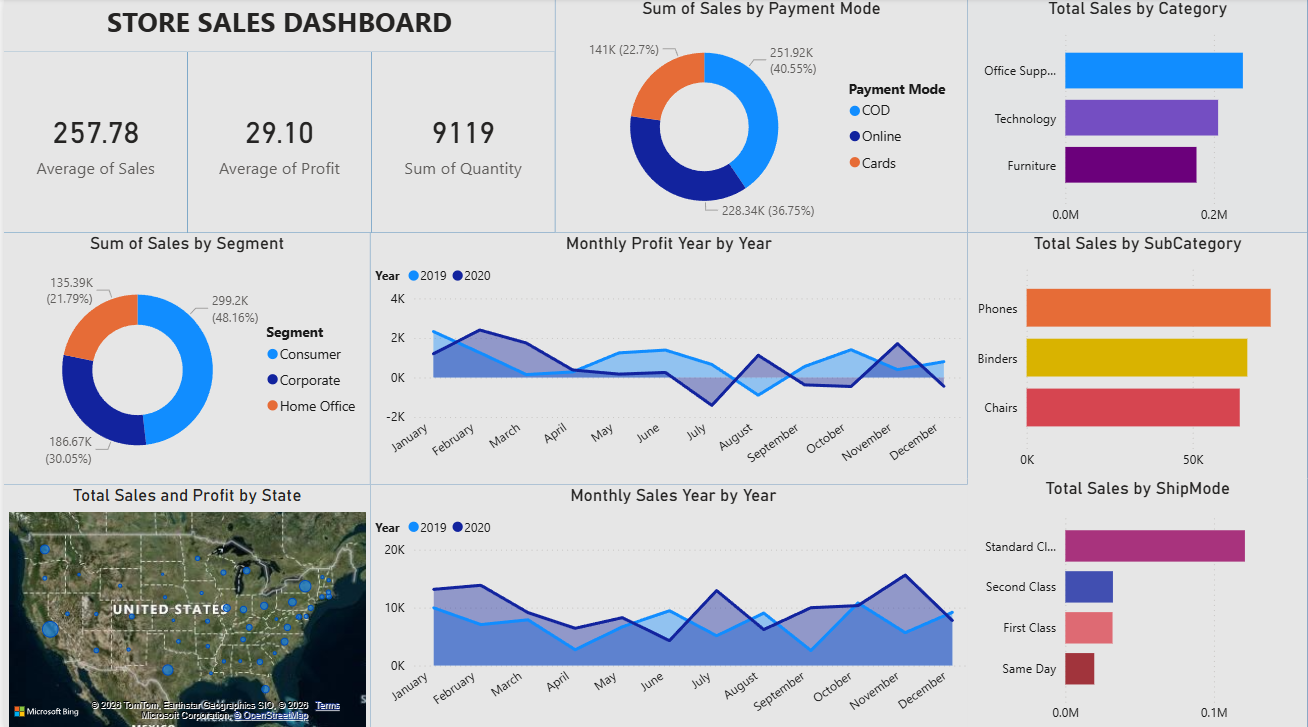

What the dashboard file says about the page in this screenshot:
{"tool":"powerbi","page":{"name":"Dashboard","canvas":[1280,720],"ordinal":0},"visuals":[{"type":"clusteredBarChart","title":"Total Sales by Category ","fields":{"Category":["DMart_Sales_Dataset.Category"],"Y":["Sum(DMart_Sales_Dataset.Sales)"]},"box":[946,0,333.7,230.7],"z":0},{"type":"clusteredBarChart","title":"Total Sales by SubCategory ","fields":{"Category":["DMart_Sales_Dataset.Sub-Category"],"Y":["Sum(Store_Sales_Dataset.Sales)"]},"box":[946,230.7,333.7,240.5],"z":1000},{"type":"areaChart","title":"Monthly Sales Year by Year","fields":{"Category":["Store_Sales_Dataset.Order Date.Variation.Date Hierarchy.Month","Store_Sales_Dataset.Order Date.Variation.Date Hierarchy.Day"],"Series":["Store_Sales_Dataset.Order Date.Variation.Date Hierarchy.Year"],"Y":["Sum(Store_Sales_Dataset.Sales)"]},"box":[359.5,477.3,595.1,242.9],"z":2000},{"type":"clusteredBarChart","title":"Total Sales by ShipMode","fields":{"Y":["Sum(Store_Sales_Dataset.Sales)"],"Category":["Store_Sales_Dataset.Ship Mode"]},"box":[946,471.2,333.7,249.1],"z":3000},{"type":"areaChart","title":"Monthly Profit Year by Year","fields":{"Category":["Store_Sales_Dataset.Order Date.Variation.Date Hierarchy.Month","Store_Sales_Dataset.Order Date.Variation.Date Hierarchy.Day"],"Series":["Store_Sales_Dataset.Order Date.Variation.Date Hierarchy.Year"],"Y":["Sum(Store_Sales_Dataset.Profit)"]},"box":[359.5,230.7,586.5,246.6],"z":4000},{"type":"map","title":"Total Sales and Profit by State","fields":{"Size":["Sum(Store_Sales_Dataset.Sales)"],"Category":["Store_Sales_Dataset.State"]},"box":[0,477.3,359.5,242.9],"z":4001},{"type":"donutChart","fields":{"Category":["Store_Sales_Dataset.Segment"],"Y":["Sum(Store_Sales_Dataset.Sales)"]},"box":[0,230.7,359.5,246.6],"z":4002},{"type":"donutChart","fields":{"Y":["Sum(Store_Sales_Dataset.Sales)"],"Category":["Store_Sales_Dataset.Payment Mode"]},"box":[541.1,0,404.9,230.7],"z":4003},{"type":"textbox","box":[0,0,541.1,52.8],"z":4004},{"type":"card","fields":{"Values":["Avg(Store_Sales_Dataset.Sales)"]},"box":[0,52.8,180.4,177.9],"z":4005},{"type":"card","fields":{"Values":["Avg(Store_Sales_Dataset.Profit)"]},"box":[180.4,52.8,180.4,177.9],"z":4006},{"type":"card","fields":{"Values":["Sum(Store_Sales_Dataset.Quantity)"]},"box":[360.7,52.8,180.4,177.9],"z":4007}]}

Visuals, with their boxes in screenshot pixels (x1, y1, x2, y2), scaled from the page's 1280x720 canvas onto the 1308x727 screenshot:
"Total Sales by Category " clusteredBarChart: (967, 0, 1307, 233)
"Total Sales by SubCategory " clusteredBarChart: (967, 233, 1307, 476)
"Monthly Sales Year by Year" areaChart: (367, 482, 975, 726)
"Total Sales by ShipMode" clusteredBarChart: (967, 476, 1307, 726)
"Monthly Profit Year by Year" areaChart: (367, 233, 967, 482)
"Total Sales and Profit by State" map: (0, 482, 367, 726)
donutChart - Store_Sales_Dataset.Segment x Sum(Store_Sales_Dataset.Sales): (0, 233, 367, 482)
donutChart - Sum(Store_Sales_Dataset.Sales) x Store_Sales_Dataset.Payment Mode: (553, 0, 967, 233)
textbox: (0, 0, 553, 53)
card - Avg(Store_Sales_Dataset.Sales): (0, 53, 184, 233)
card - Avg(Store_Sales_Dataset.Profit): (184, 53, 369, 233)
card - Sum(Store_Sales_Dataset.Quantity): (369, 53, 553, 233)
